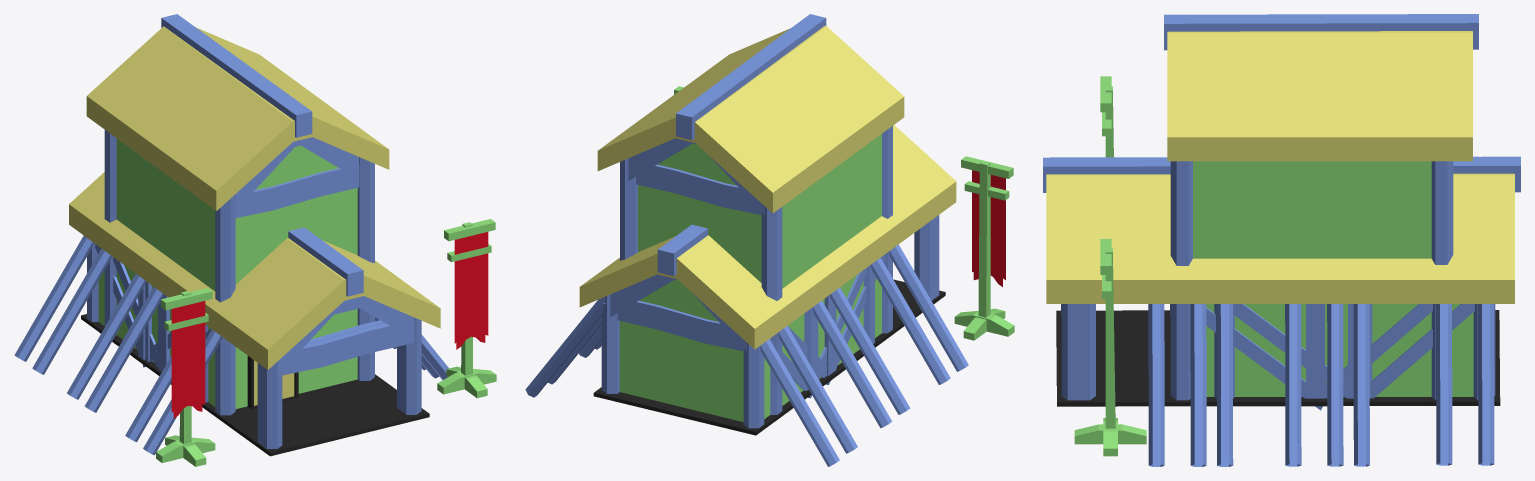
File: barracks_levels.fbx
3 renders of one model, left to right at view 1: azimuth 30°, elevation 25°; view 2: azimuth 150°, elevation 25°; view 3: azimuth 270°, elevation 25°, orthographic. The views are drawn at different scales.
Visible parts, largest first — view 1: Barracks_3, Barracks_Lv1, Barracks_2, Flag_P.003, Flag_P.002, Flag_P, Flag_P.001; view 2: Barracks_3, Barracks_2, Barracks_Lv1, Flag_P.003, Flag_P.001; view 3: Barracks_3, Barracks_2, Barracks_Lv1, Flag_P.002, Flag_P.003.
Boxes of the visible parts, left/top/right/bottom form: Barracks_3: left=32, top=14, right=448, bottom=455; Barracks_Lv1: left=67, top=227, right=440, bottom=456; Barracks_2: left=14, top=172, right=438, bottom=452; Flag_P.003: left=156, top=288, right=215, bottom=466; Flag_P.002: left=437, top=219, right=496, bottom=398; Flag_P: left=447, top=244, right=491, bottom=349; Flag_P.001: left=164, top=313, right=208, bottom=418; Barracks_3: left=548, top=14, right=968, bottom=453; Barracks_2: left=525, top=126, right=956, bottom=466; Barracks_Lv1: left=579, top=125, right=956, bottom=428; Flag_P.003: left=954, top=156, right=1014, bottom=340; Flag_P.001: left=964, top=181, right=1009, bottom=286; Barracks_3: left=1053, top=14, right=1478, bottom=466; Barracks_2: left=1043, top=156, right=1520, bottom=466; Barracks_Lv1: left=1043, top=157, right=1377, bottom=466; Flag_P.002: left=1074, top=239, right=1146, bottom=456; Flag_P.003: left=1100, top=76, right=1113, bottom=157.
Bounding box in the file's own units: 11.84 × 10.49 × 12.45.
